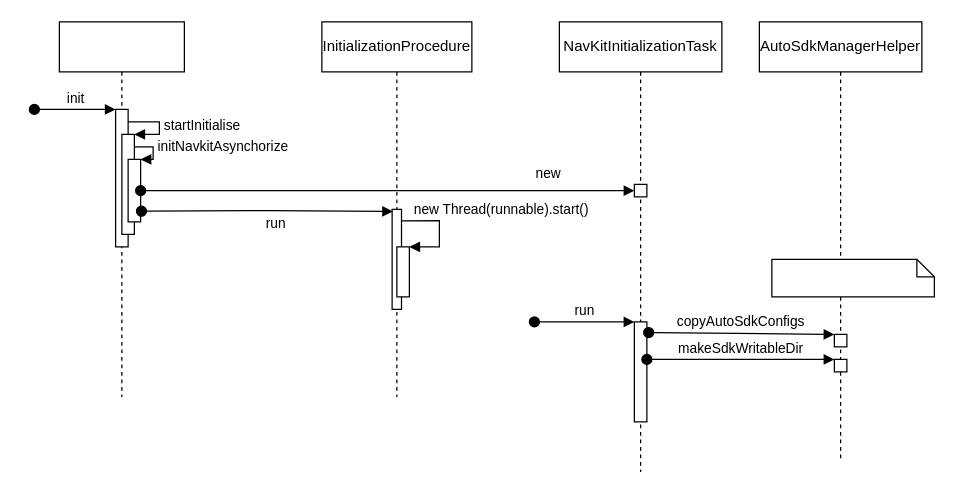
The diagram is 956 pixels wide and 494 high, and some of its shapes have lost their labels. The centre of each missing label's shape, as x and y in pixels:
AutoSdkManager: point 121,209
Condition: updateStorageFiles: point 852,277
